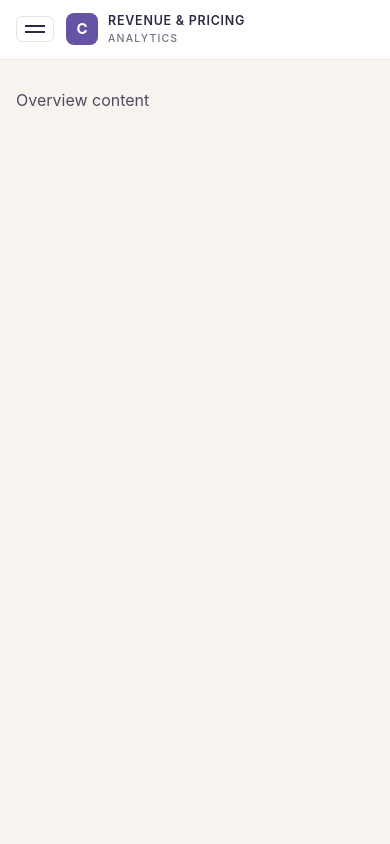
Scenario: AppShell navigation › closes the menu after navigating to Executive Decisions
Click the button named "Toggle navigation" at (35, 29), box [16,16,54,42]
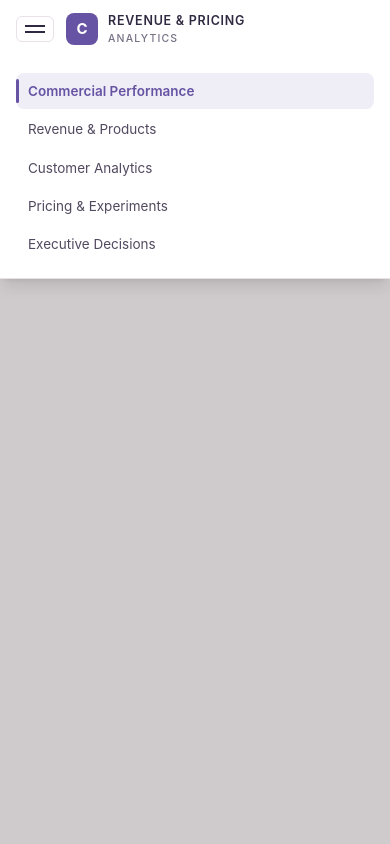
Click the link "Executive Decisions" at (92, 244), box [28,236,156,252]
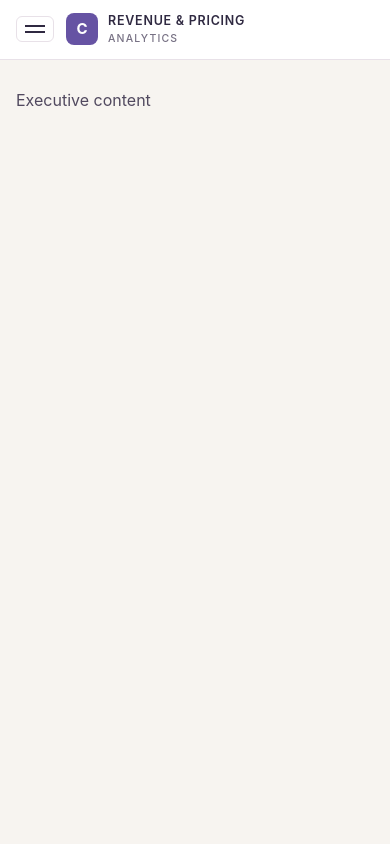
expect the text "Executive content" is shown: met, box [16,90,151,110]
